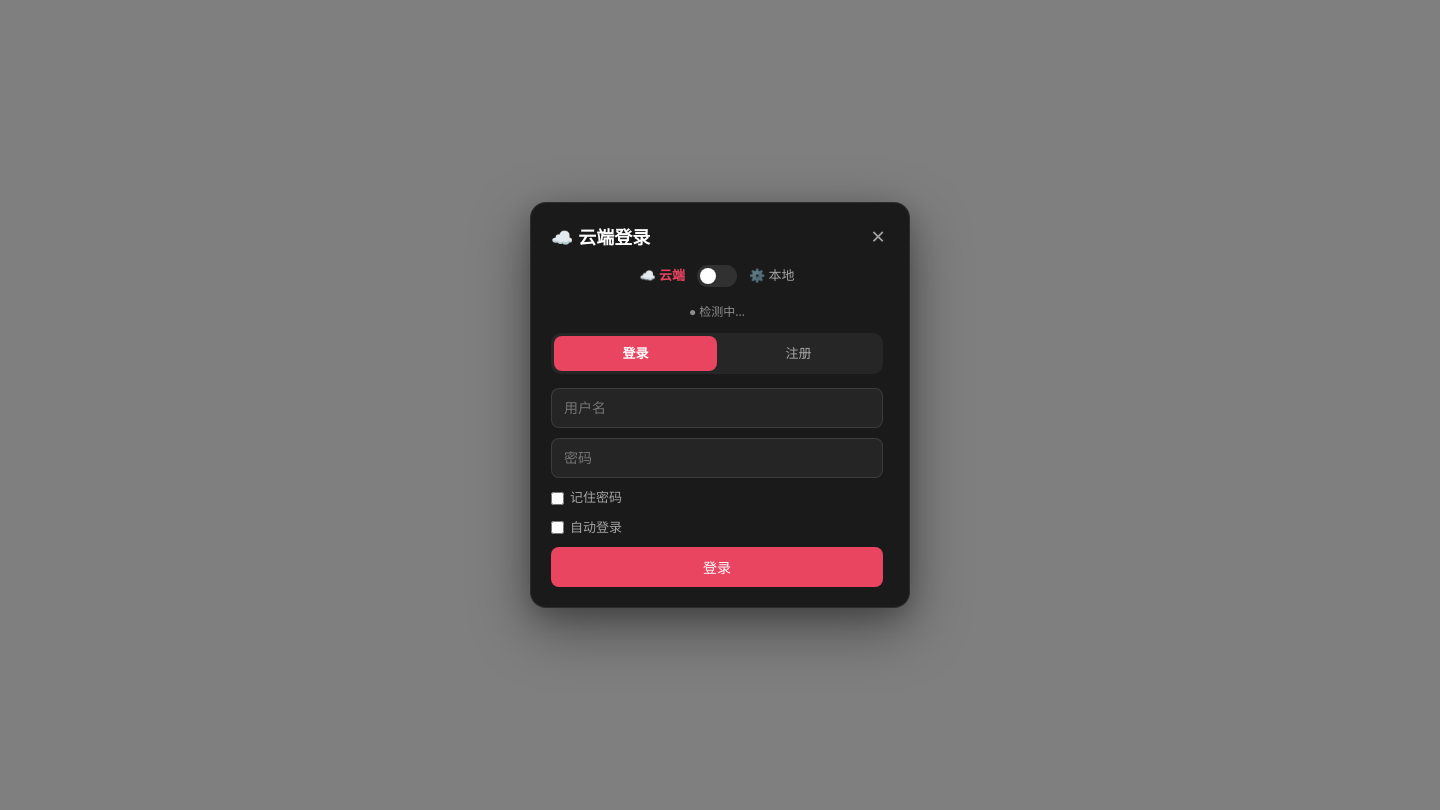
Test: AuthPanel.vue › 注册成功但自动登录失败时应切回登录 Tab 并自动填写账号密码
Click the text with class "login-tab" showing "注册" at (798, 353), box [786,344,812,362]
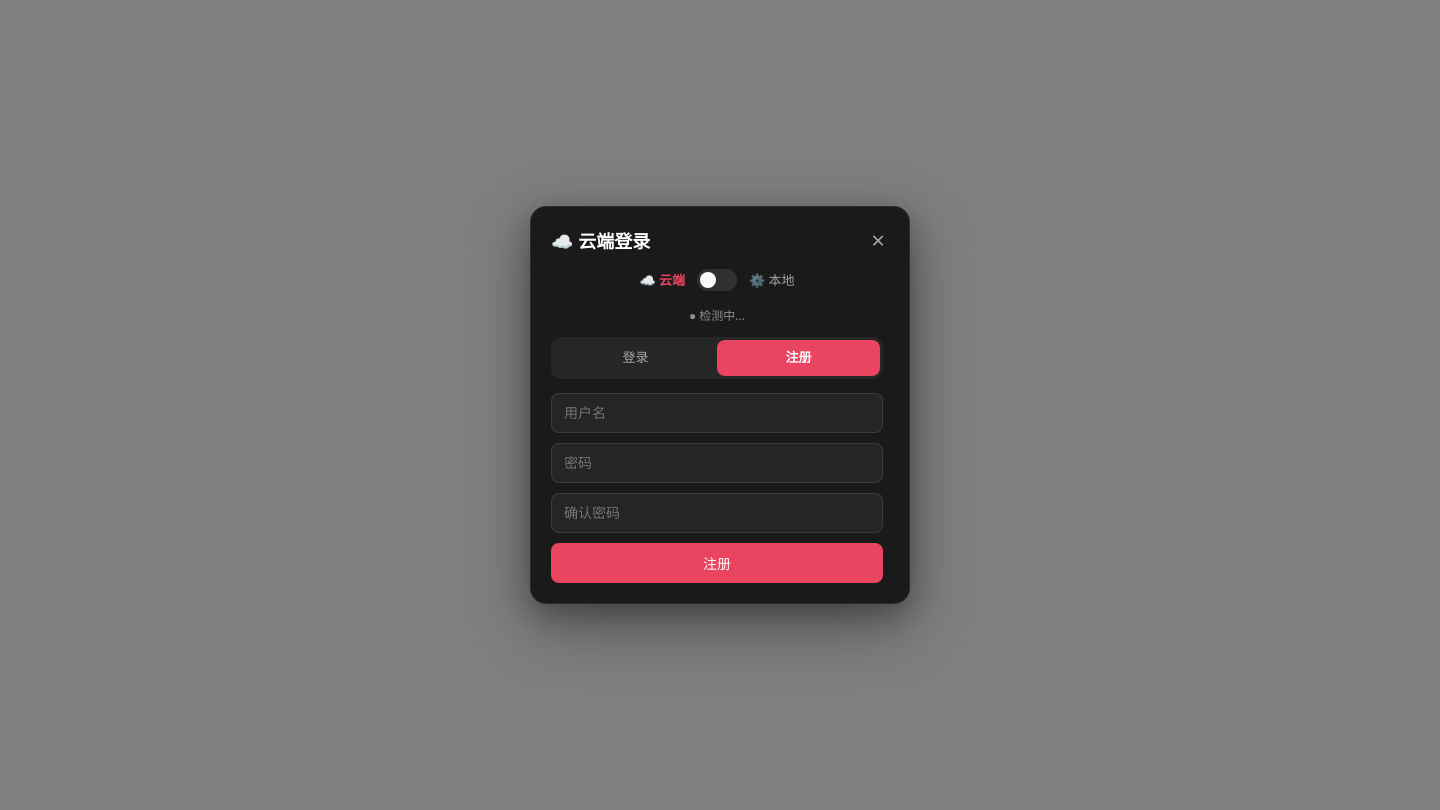
Type "bob" into the field with class "form-input" showing "用户名" at (717, 413), box [551,393,883,433]
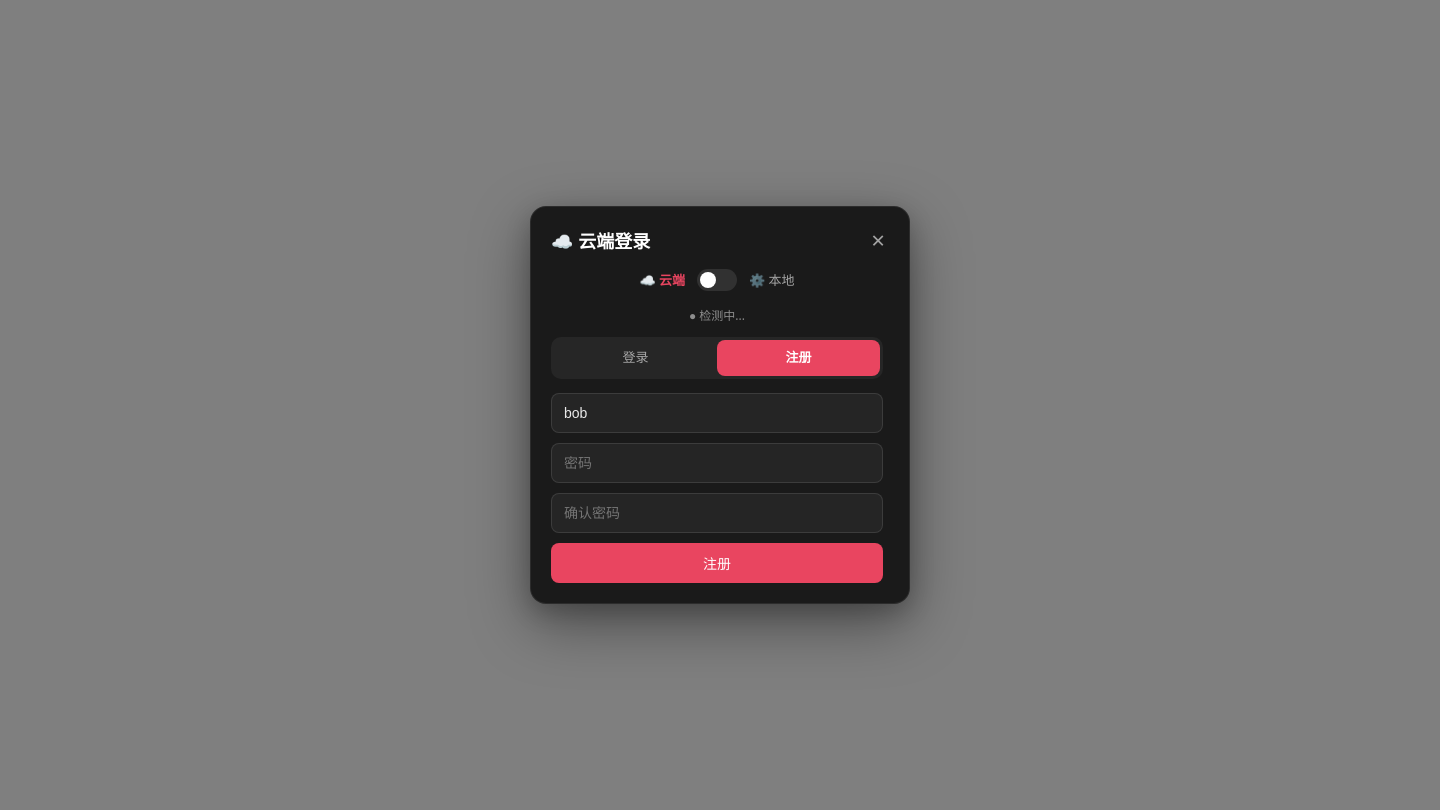
Type "password123" into the password field with class "form-input" showing "密码" at (717, 463), box [551,443,883,483]
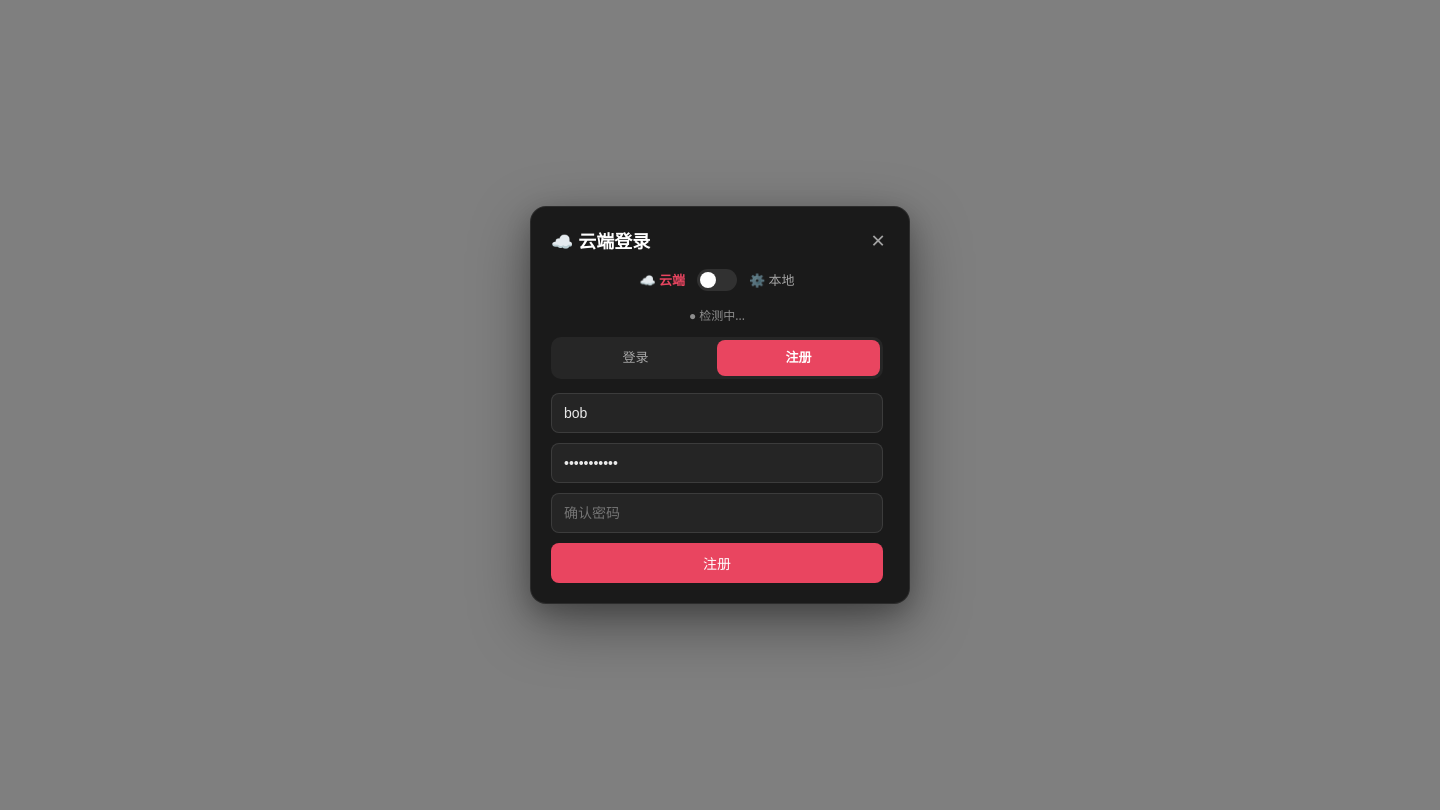
Type "password123" into the password field with class "form-input" showing "确认密码" at (717, 513), box [551,493,883,533]
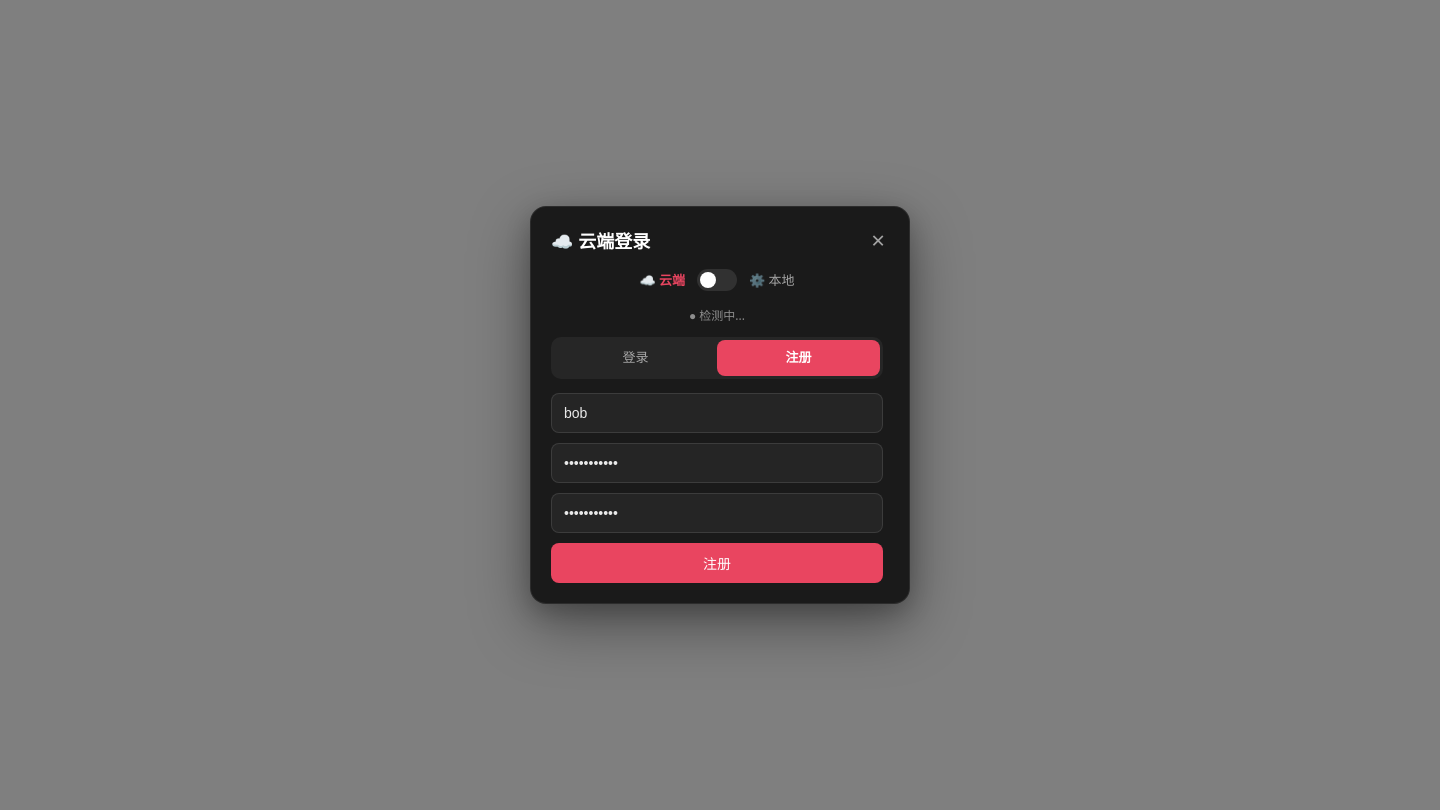
Click the button "注册" at (717, 563), box [551,543,883,583]
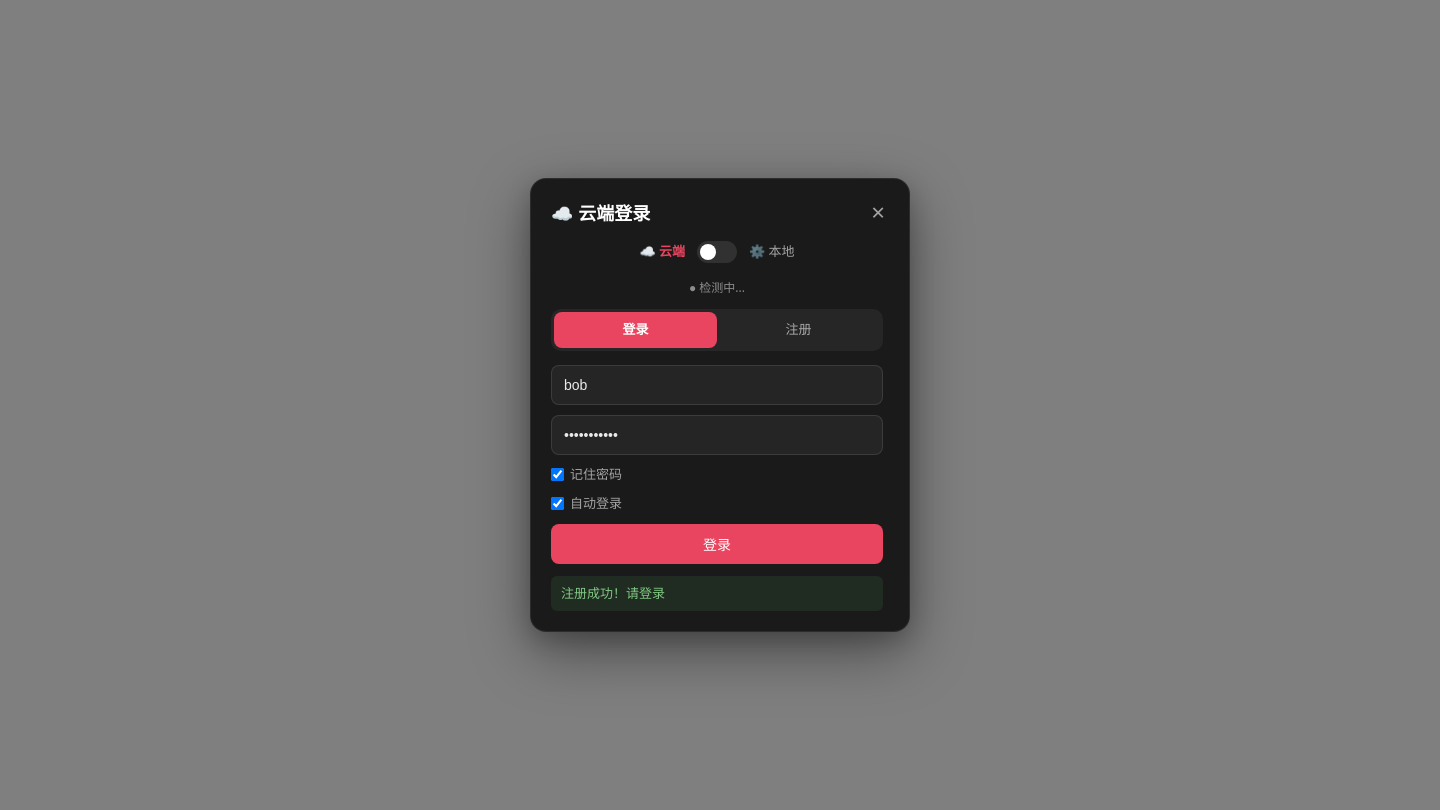
Expected: the field with class "form-input" holds "bob", [551,364,883,404]
Expected: the text with class "success" shows "注册成功", [561,584,665,602]
Expected: the password field with class "form-input" holds "password123", [551,414,883,454]
